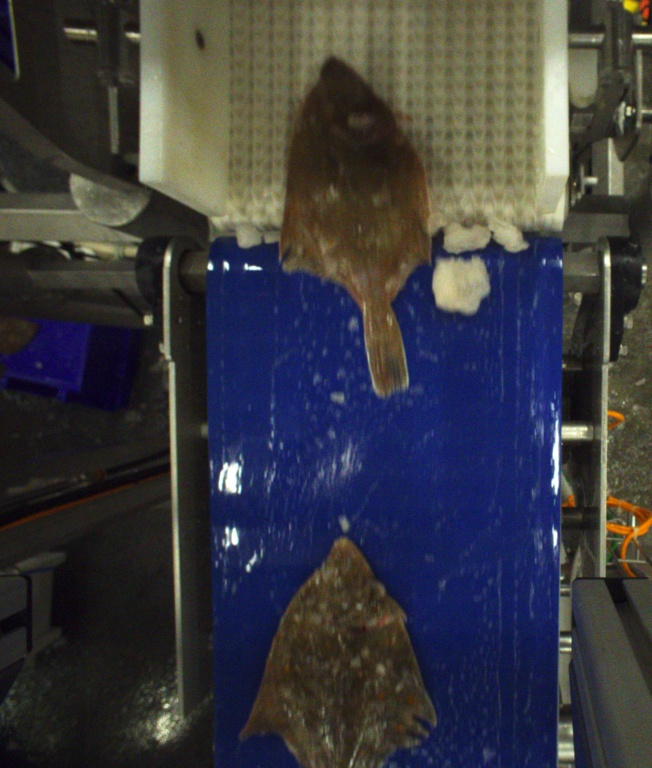PLE: (276, 55, 432, 397)
